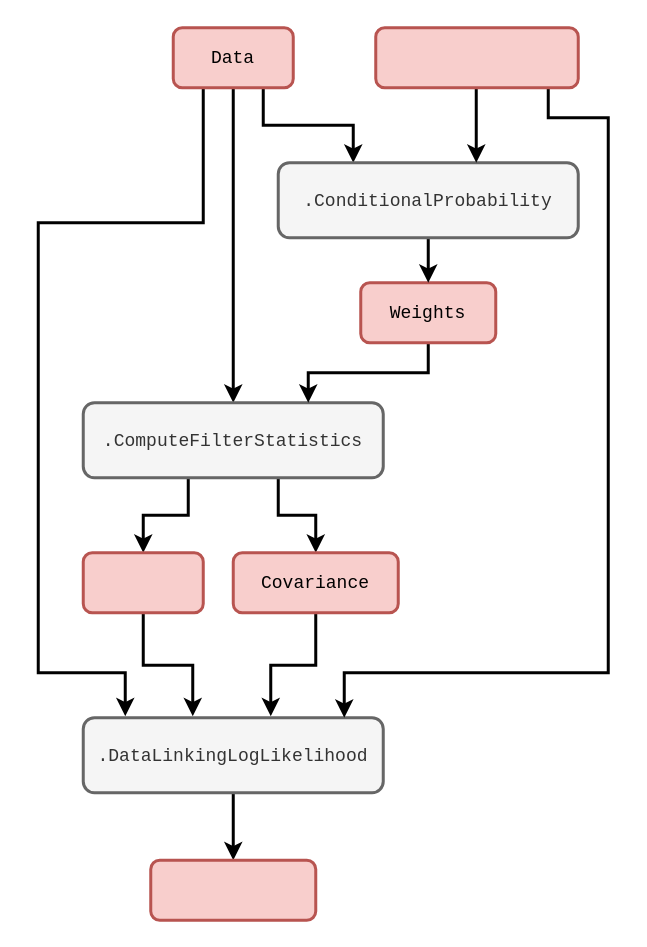
This 647x947 diagram has some shape labels left out. The centre of each missing label's shape, as x and y in pixels:
"HyperParameters" goes at pixel 476 57.
"Mean" goes at pixel 142 582.
"Objective" goes at pixel 232 889.
